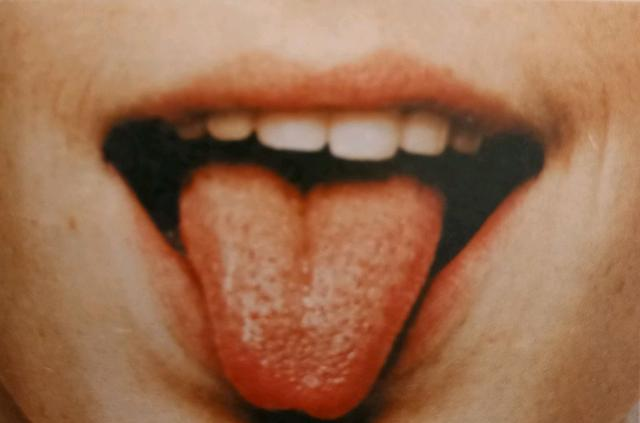hongshe: (180, 160, 445, 419)
shenquao: (240, 161, 395, 205)
